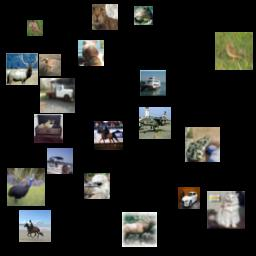airplane: (139, 107, 171, 139)
automobile: (178, 187, 200, 209)
bird: (7, 168, 45, 206), (215, 32, 253, 70), (84, 173, 110, 199)
cat: (207, 191, 245, 229), (34, 114, 63, 143), (92, 4, 118, 30)
deer: (122, 212, 157, 247), (6, 53, 38, 85), (27, 20, 43, 36)
dog: (39, 54, 61, 76)
frog: (185, 127, 220, 162), (134, 6, 153, 25)
ship: (47, 148, 73, 174), (140, 70, 166, 96)
truck: (40, 78, 75, 113)
